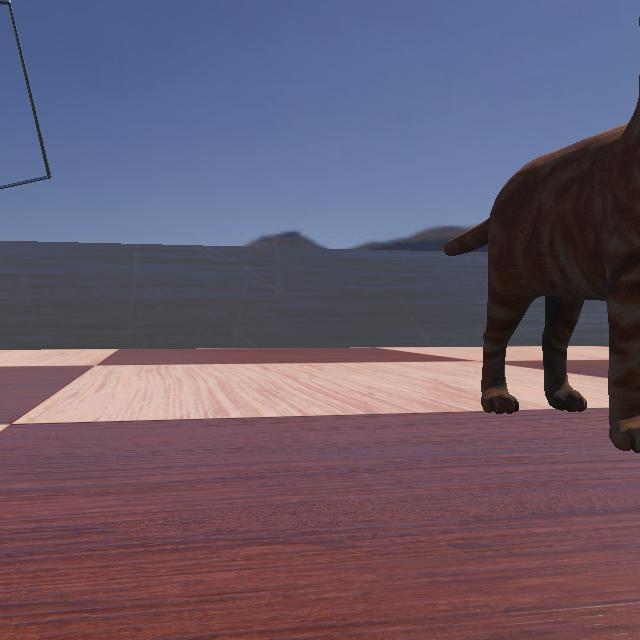cat: (436, 1, 640, 473), (436, 1, 640, 473)
paint-bucket: (0, 0, 100, 462)
